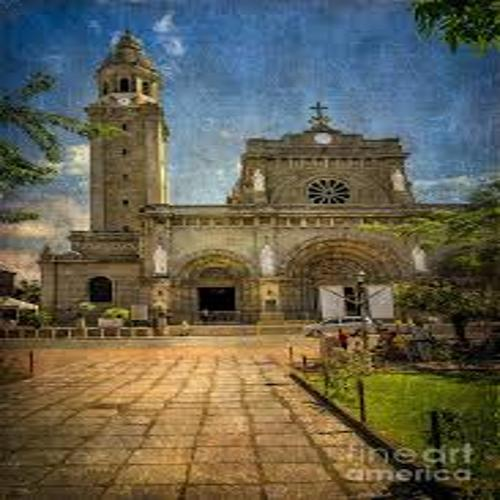Manila Cathedral Church: (35, 30, 469, 354)
